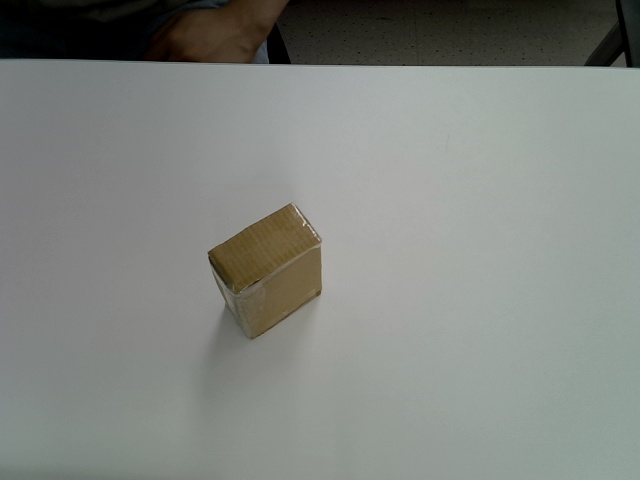normal: (207, 203, 322, 341)
